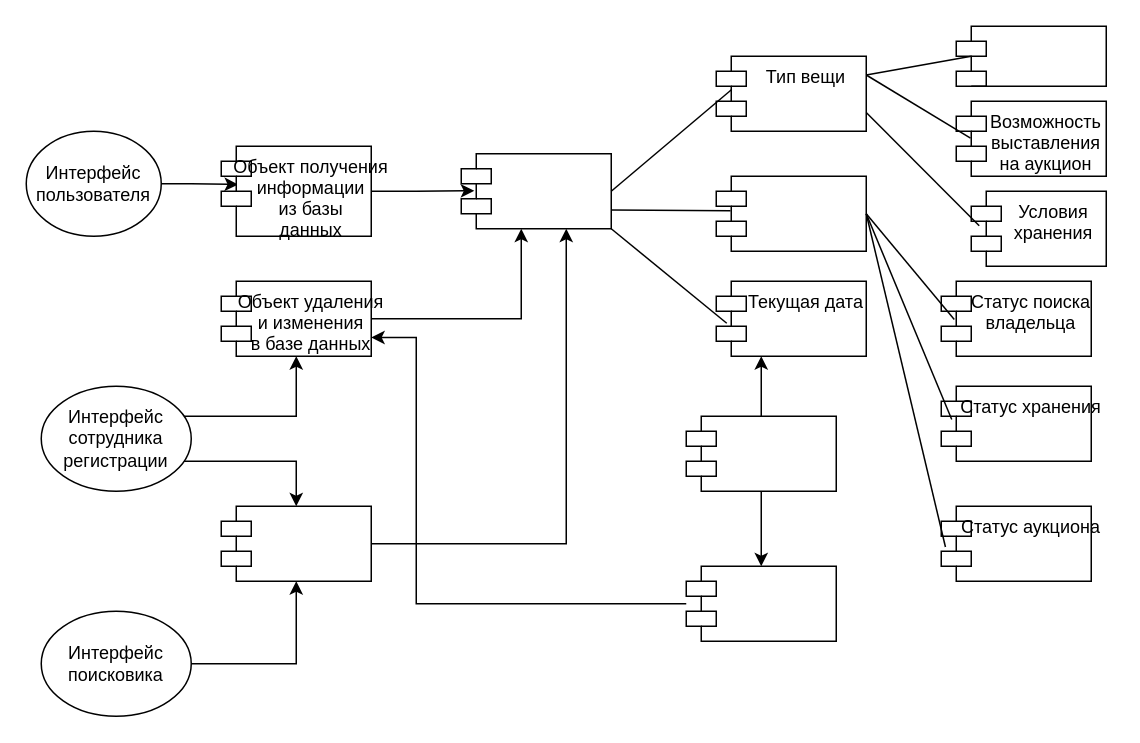
This 1140x743 diagram has some shape labels left out. Each missing label, with the centre of its shape:
База данных: (535,190)
Контролер срока хранения: (760,453)
Объект занесения в базу данных: (295,543)
Объект регистрации на аукционе: (760,603)
Сроки хранения: (1030,55)
Статус вещи: (790,213)
